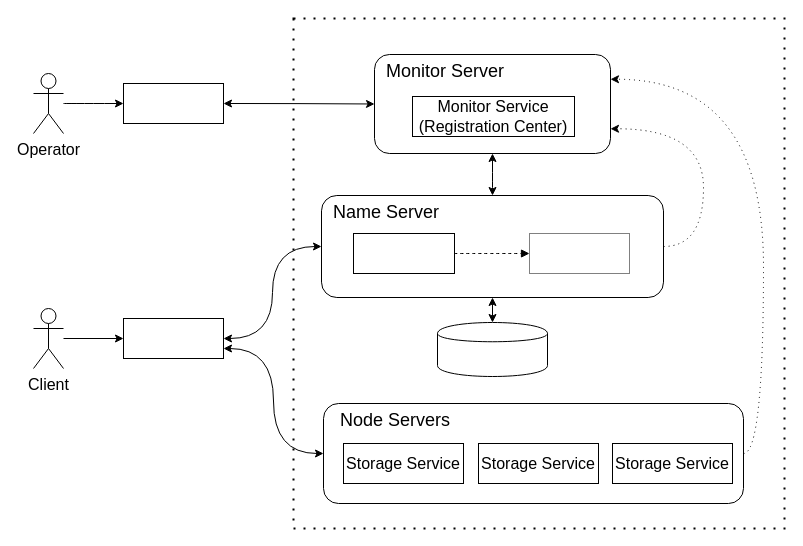
Image size: 803x546. Some labels were removed from this diagram. Each missing label, with the centre of its shape:
Meta Data DB: (492,349)
Meta Service (Master): (403,253)
Meta Service (Slave): (579,253)
Storage SDK: (173,338)
Web UI: (173,103)
